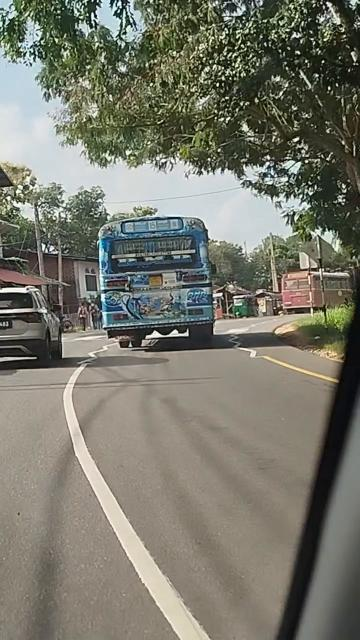illegal overtaking: (90, 214, 227, 358)
number plate: (145, 275, 166, 290)
